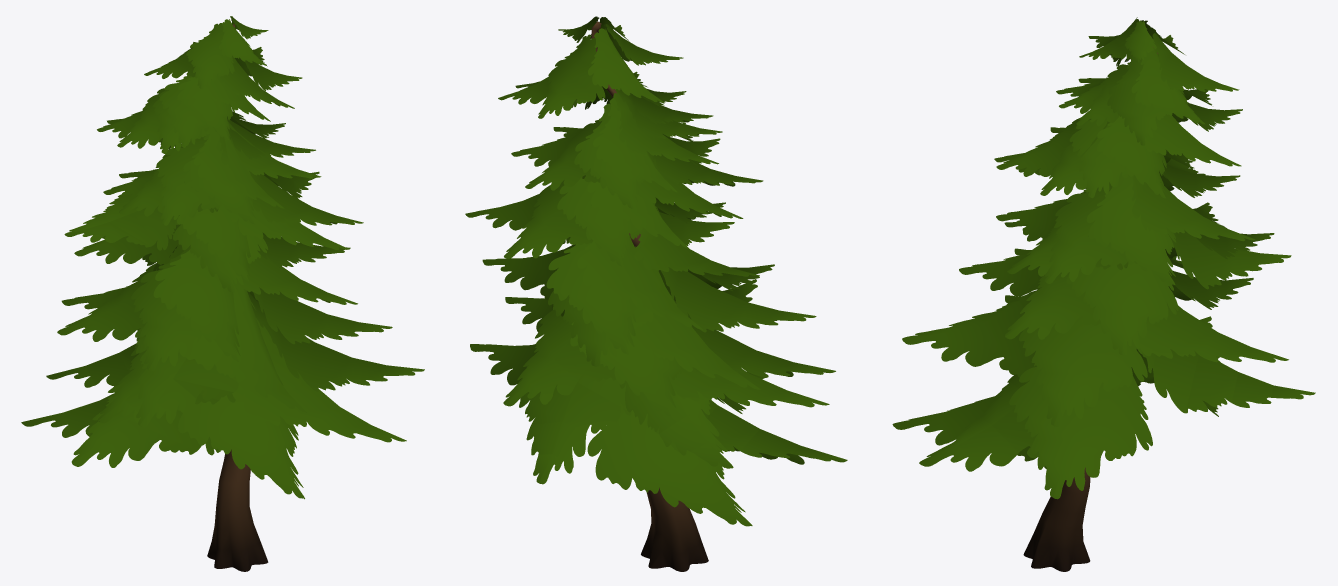
The model's file is pine.glb.
The picture shows the model from 3 angles, left to right: view 1: azimuth 30°, elevation 25°; view 2: azimuth 150°, elevation 25°; view 3: azimuth 270°, elevation 25°; orthographic projection. The views are drawn at different scales.
Parts seen in each view (by area): view 1: Pine_5; view 2: Pine_5; view 3: Pine_5.
Boxes of the visible parts, box(x1,y1,x2,y2) form: Pine_5: box(21, 16, 424, 571); Pine_5: box(465, 16, 847, 571); Pine_5: box(892, 17, 1315, 571).
Bounding box in the file's own units: 6.42 × 8.72 × 6.22.
Materials: 2 (1 with a texture image).
